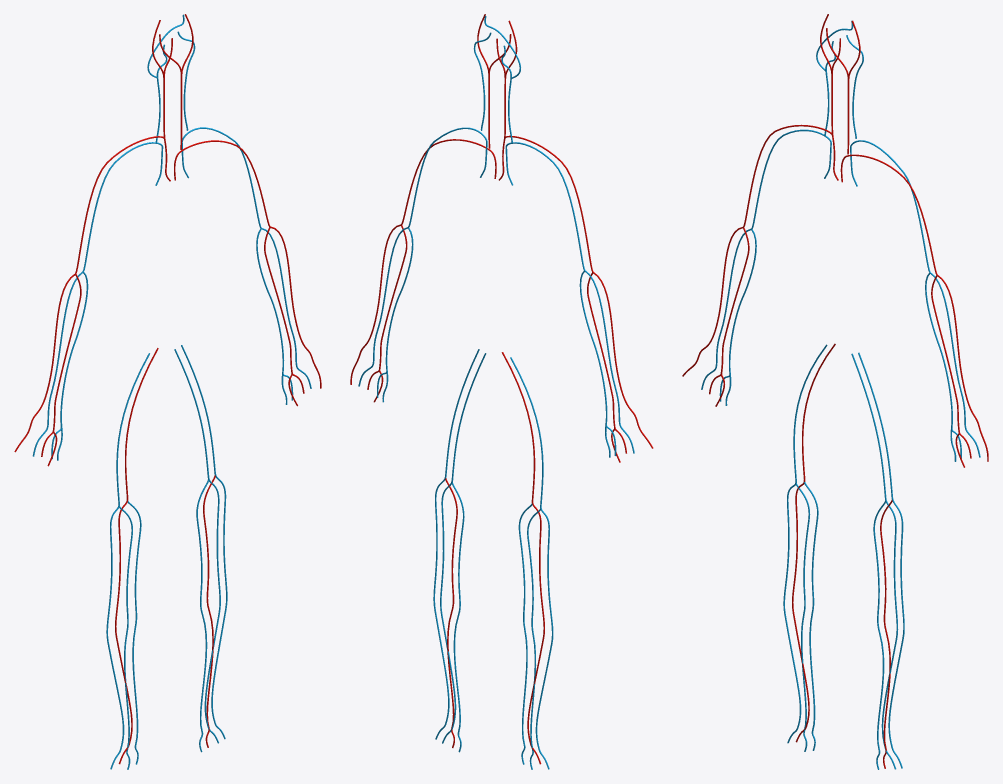
File: Veins.fbx
3 views of the same model, side by side, from view 1: azimuth 30°, elevation 25°; view 2: azimuth 150°, elevation 25°; view 3: azimuth 330°, elevation 25° (orthographic).
Visible parts, largest first — view 1: BezierCurve.001, BezierCurve, BezierCurve.002, BezierCurve.003, BezierCurve.004, BezierCurve.008, BezierCurve.006, BezierCurve.010, BezierCurve.009, BezierCurve.011, BezierCurve.007, BezierCurve.005; view 2: BezierCurve.001, BezierCurve, BezierCurve.002, BezierCurve.003, BezierCurve.004, BezierCurve.008, BezierCurve.006, BezierCurve.010, BezierCurve.007, BezierCurve.011, BezierCurve.009, BezierCurve.005; view 3: BezierCurve.002, BezierCurve, BezierCurve.001, BezierCurve.003, BezierCurve.010, BezierCurve.006, BezierCurve.004, BezierCurve.008, BezierCurve.009, BezierCurve.007, BezierCurve.011, BezierCurve.005.
Part boxes in pixels (x1,y1,x2,y2): BezierCurve.001: (32, 14, 184, 460); BezierCurve: (14, 20, 172, 466); BezierCurve.002: (159, 14, 321, 406); BezierCurve.003: (177, 31, 311, 404); BezierCurve.004: (106, 353, 149, 769); BezierCurve.008: (115, 348, 158, 764); BezierCurve.006: (174, 349, 220, 743); BezierCurve.010: (181, 345, 227, 739); BezierCurve.009: (127, 501, 141, 764); BezierCurve.011: (203, 475, 215, 747); BezierCurve.007: (196, 479, 209, 752); BezierCurve.005: (119, 506, 132, 769); BezierCurve.001: (484, 16, 634, 457); BezierCurve: (496, 20, 653, 462); BezierCurve.002: (350, 14, 511, 402); BezierCurve.003: (358, 32, 491, 402); BezierCurve.004: (510, 357, 553, 769); BezierCurve.008: (501, 352, 544, 764); BezierCurve.006: (440, 353, 486, 743); BezierCurve.010: (433, 349, 479, 739); BezierCurve.007: (451, 482, 464, 752); BezierCurve.011: (445, 478, 457, 747); BezierCurve.009: (518, 503, 532, 764); BezierCurve.005: (527, 508, 540, 769); BezierCurve.002: (826, 20, 988, 467); BezierCurve: (682, 14, 840, 406); BezierCurve.001: (701, 20, 853, 405); BezierCurve.003: (846, 35, 980, 461); BezierCurve.010: (858, 352, 904, 768); BezierCurve.006: (851, 353, 898, 769); BezierCurve.004: (783, 344, 827, 743); BezierCurve.008: (792, 343, 835, 742); BezierCurve.009: (804, 482, 818, 750); BezierCurve.007: (873, 500, 885, 769); BezierCurve.011: (880, 499, 892, 768); BezierCurve.005: (795, 483, 810, 751).
Size of the model in its own units: 447 by 1042 by 14.77.
